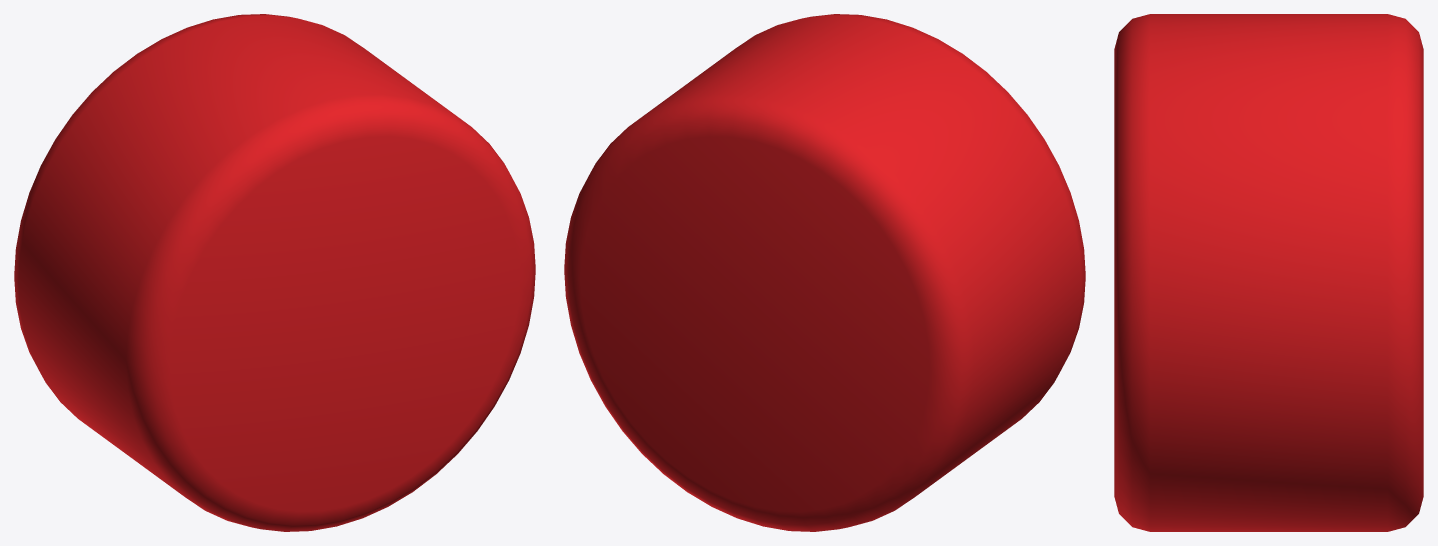
The model's file is SM_AGV_Button_EStop.fbx.
3 views of the same model, side by side, from view 1: azimuth 30°, elevation 25°; view 2: azimuth 150°, elevation 25°; view 3: azimuth 270°, elevation 25° (orthographic). The views are drawn at different scales.
Parts seen in each view (by area): view 1: SM_AGV_Button_EStop.001; view 2: SM_AGV_Button_EStop.001; view 3: SM_AGV_Button_EStop.001.
Part boxes in pixels (box(x1,y1,x2,y2)): SM_AGV_Button_EStop.001: box(14, 14, 535, 531); SM_AGV_Button_EStop.001: box(564, 14, 1085, 531); SM_AGV_Button_EStop.001: box(1114, 14, 1423, 531).
Bounding box in the file's own units: 0.072 × 0.043 × 0.072.
